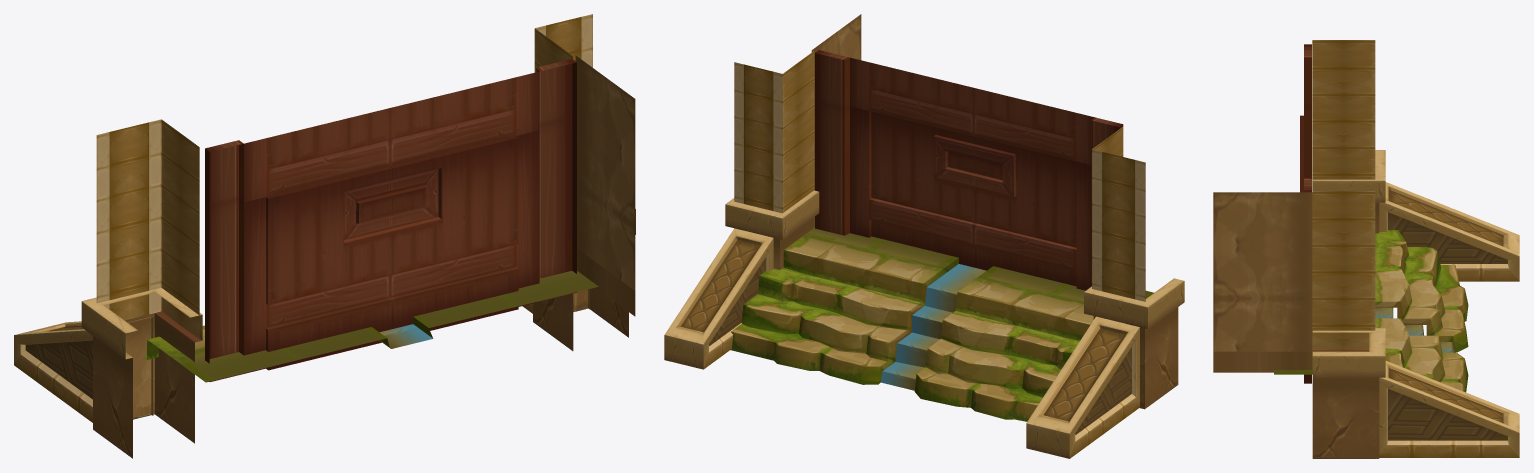
The model's file is Remains_stairs_01.fbx.
3 renders of one model, left to right at view 1: azimuth 30°, elevation 25°; view 2: azimuth 150°, elevation 25°; view 3: azimuth 270°, elevation 25°, orthographic. The views are drawn at different scales.
Visible parts, largest first — view 1: Remains_stairs_01; view 2: Remains_stairs_01; view 3: Remains_stairs_01.
Part boxes in pixels (<box>): Remains_stairs_01: <box>14,14,635,458</box>; Remains_stairs_01: <box>664,14,1184,458</box>; Remains_stairs_01: <box>1213,40,1519,458</box>.
Size of the model in its own units: 609 by 338 by 382.
